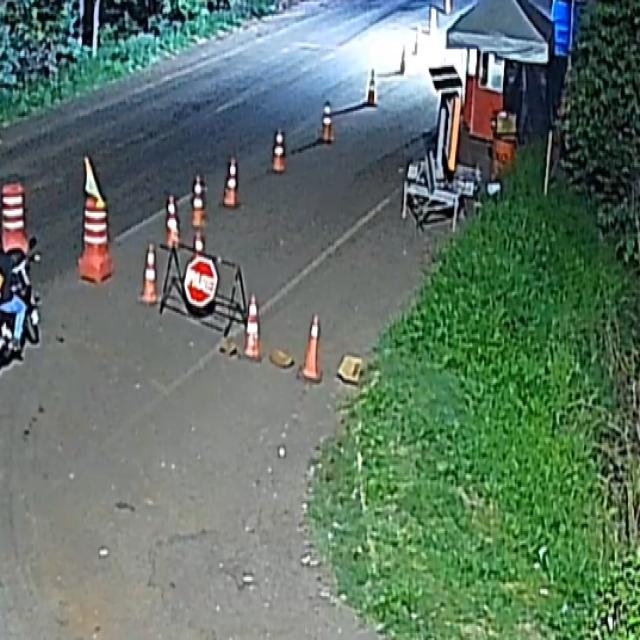big_cone: (82, 204, 110, 285), (1, 182, 28, 256)
small_cone: (300, 312, 323, 381), (141, 243, 162, 306), (242, 294, 262, 360), (190, 173, 208, 229), (222, 156, 240, 207), (165, 197, 181, 249), (271, 130, 287, 172), (319, 100, 334, 142), (366, 69, 376, 106)
stop_sign: (184, 261, 218, 303)
